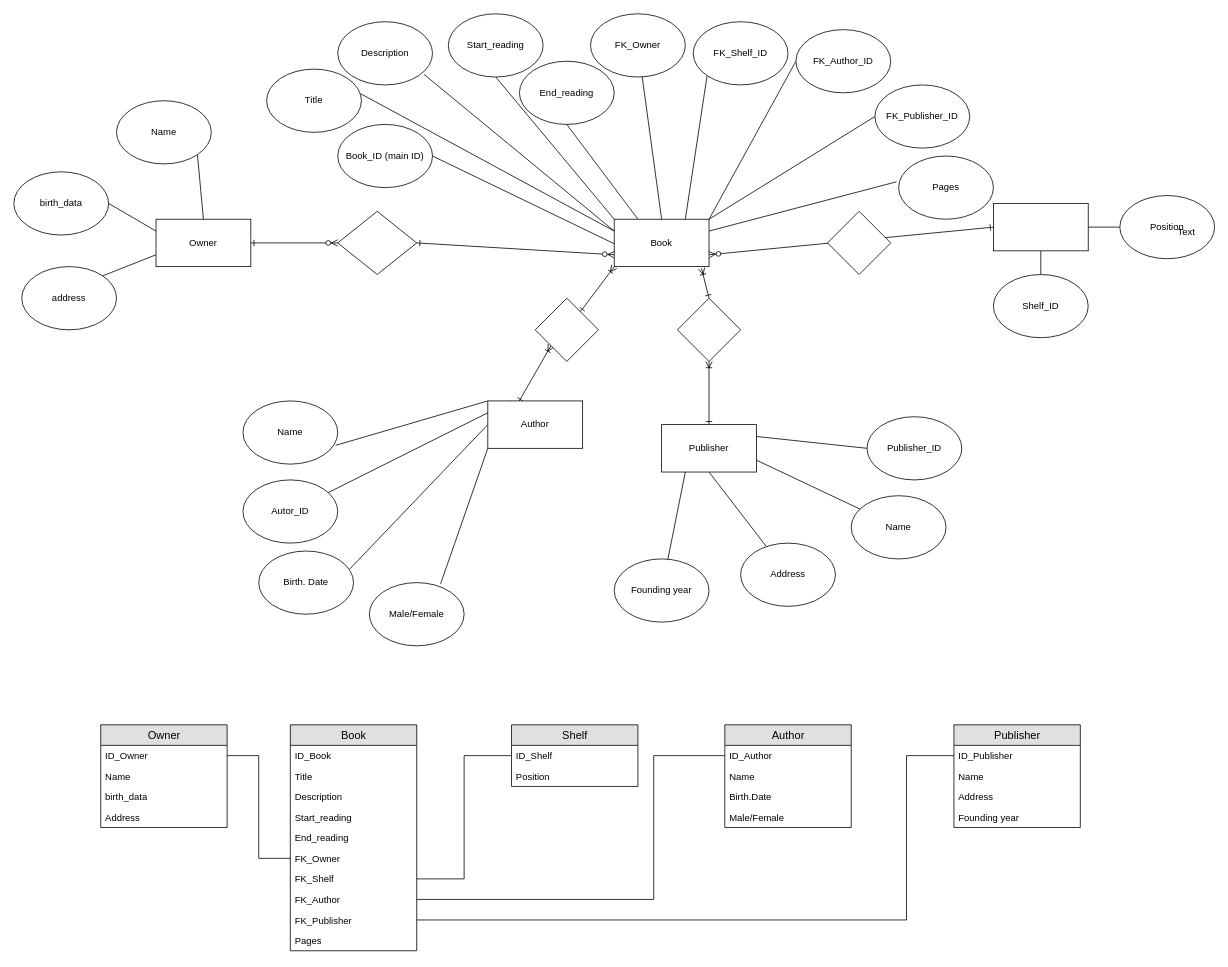
Image size: 1228x967. Some labels were removed from this diagram. Each missing label, with the box of its shape:
from: (827, 211, 891, 275)
posess: (337, 211, 417, 275)
published: (677, 297, 741, 361)
Self: (993, 203, 1088, 251)
wrote: (534, 297, 598, 361)
